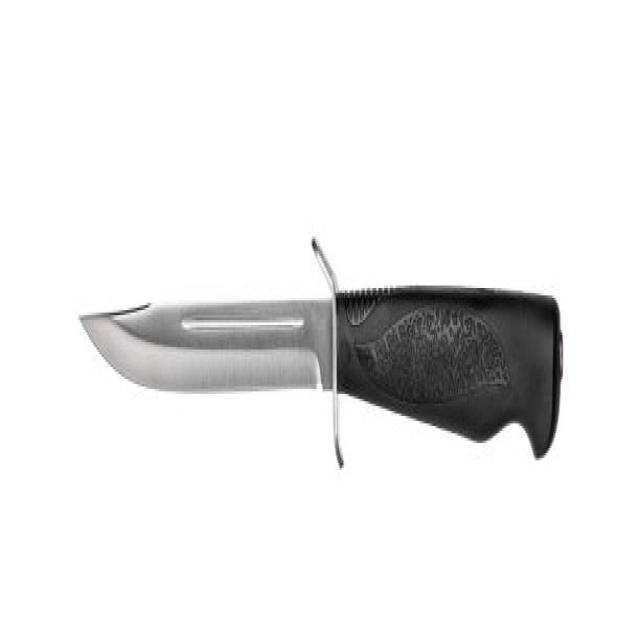knife: (79, 232, 565, 470)
